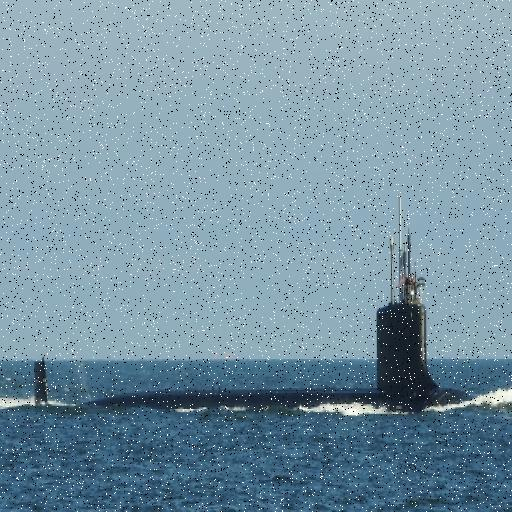submarine: (36, 193, 473, 413)
